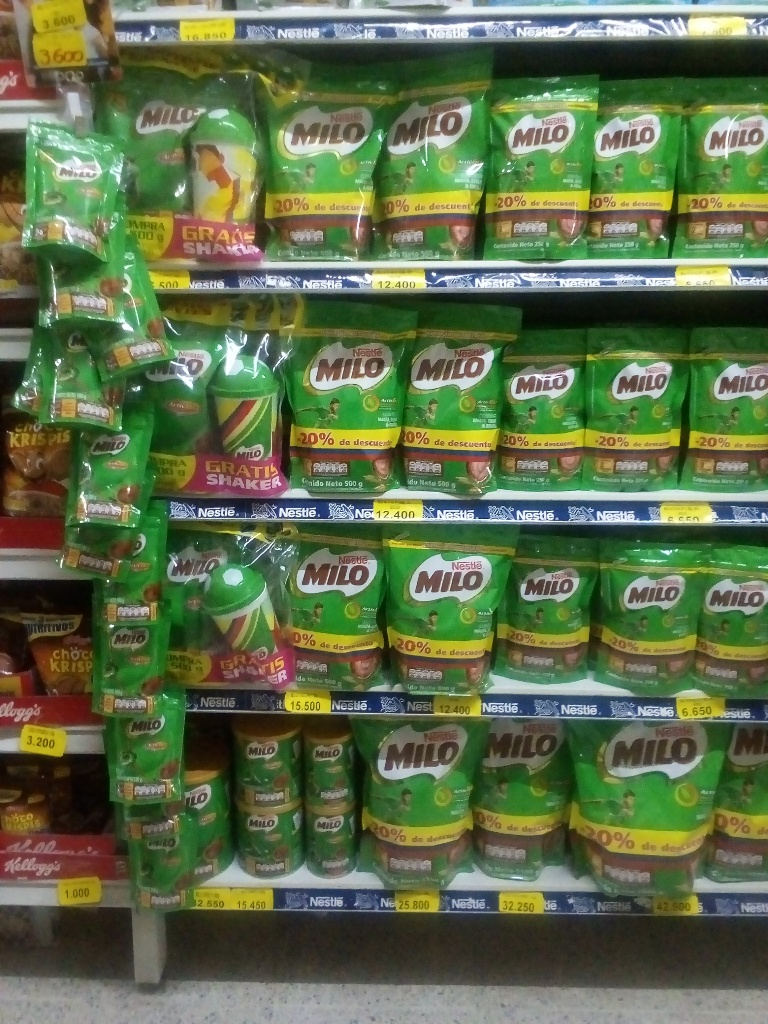COL0170203DYP10000: (99, 605, 172, 717)
COL0170203DYP50000: (92, 50, 210, 249)
COL0170203LAT20000: (304, 714, 357, 806)
COL0170203LAT40000: (228, 709, 300, 809)
